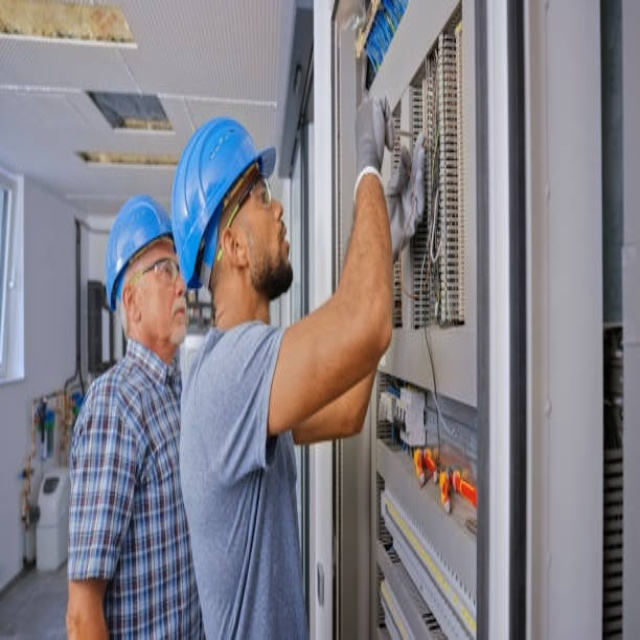Gafas: (226, 171, 275, 238), (127, 252, 177, 293)
Guantes: (386, 129, 423, 262), (355, 89, 393, 195)
Sin_mascara: (266, 215, 293, 282), (160, 289, 188, 337)
